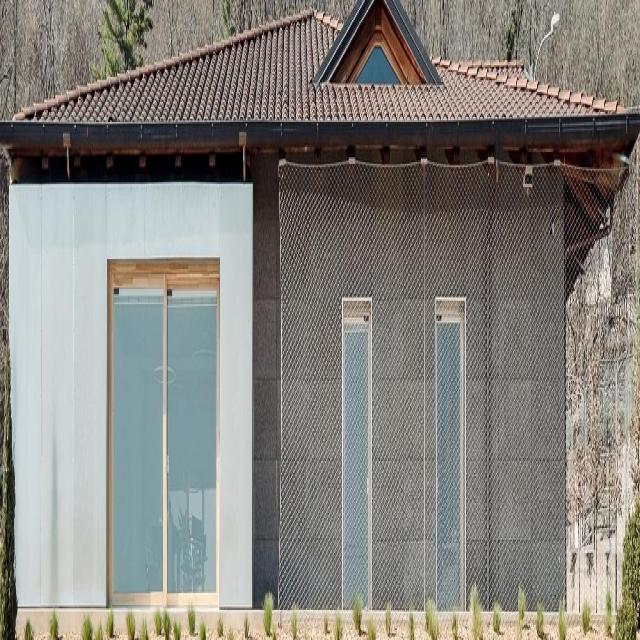door: (106, 267, 220, 618), (434, 301, 465, 616), (340, 311, 371, 614)
window: (355, 39, 406, 91)
